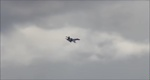maybay_muctieu: (64, 33, 81, 44)
